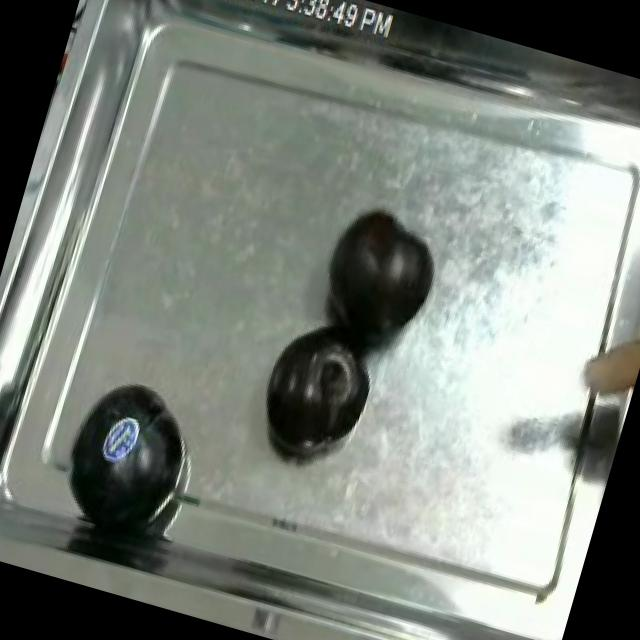Fruit: (45, 374, 204, 548), (304, 194, 451, 354), (245, 309, 382, 466)
